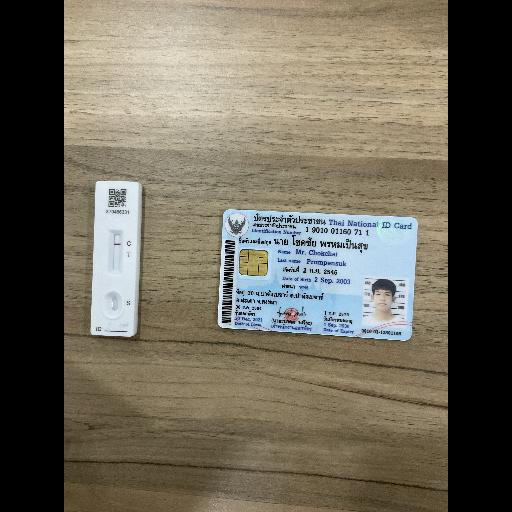Neg: (90, 180, 140, 336)
